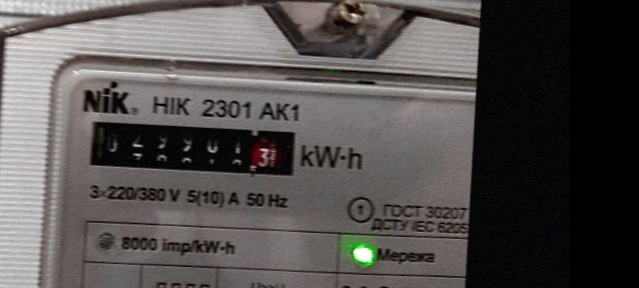0: (205, 129, 221, 155), (104, 130, 121, 152)
1: (230, 131, 244, 155)
2: (129, 129, 146, 149)
3: (257, 144, 271, 167)
9: (180, 130, 195, 152), (155, 128, 169, 151)
screen: (77, 109, 307, 185)
